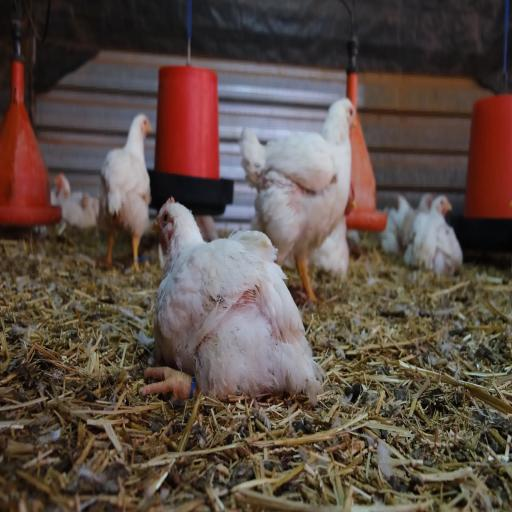healthy: (148, 200, 184, 248), (336, 96, 366, 131), (141, 106, 153, 134)
